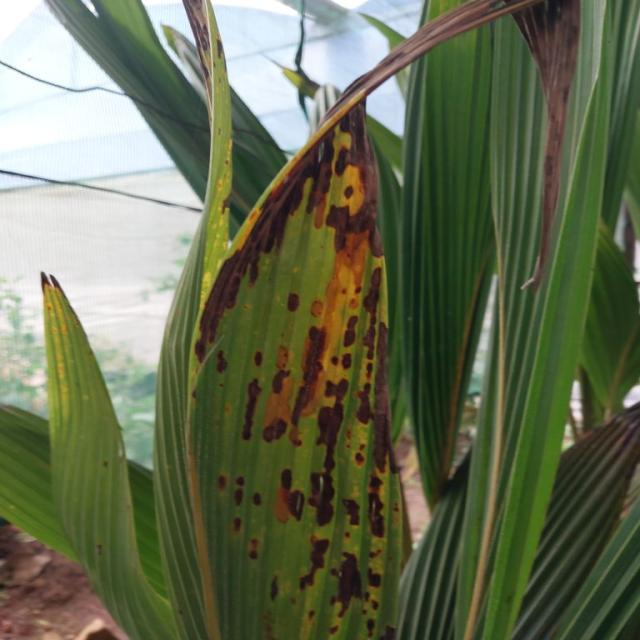gray leaf spot: (161, 0, 572, 640)
